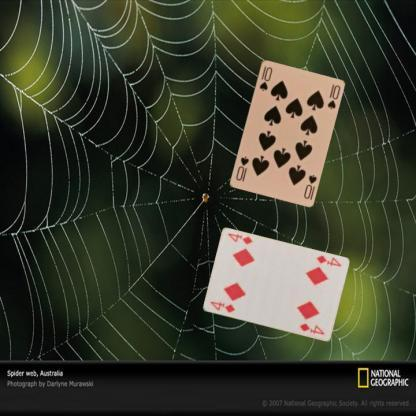10s: (256, 63, 274, 92), (301, 172, 318, 200)
4d: (207, 298, 236, 314), (314, 252, 342, 268)
